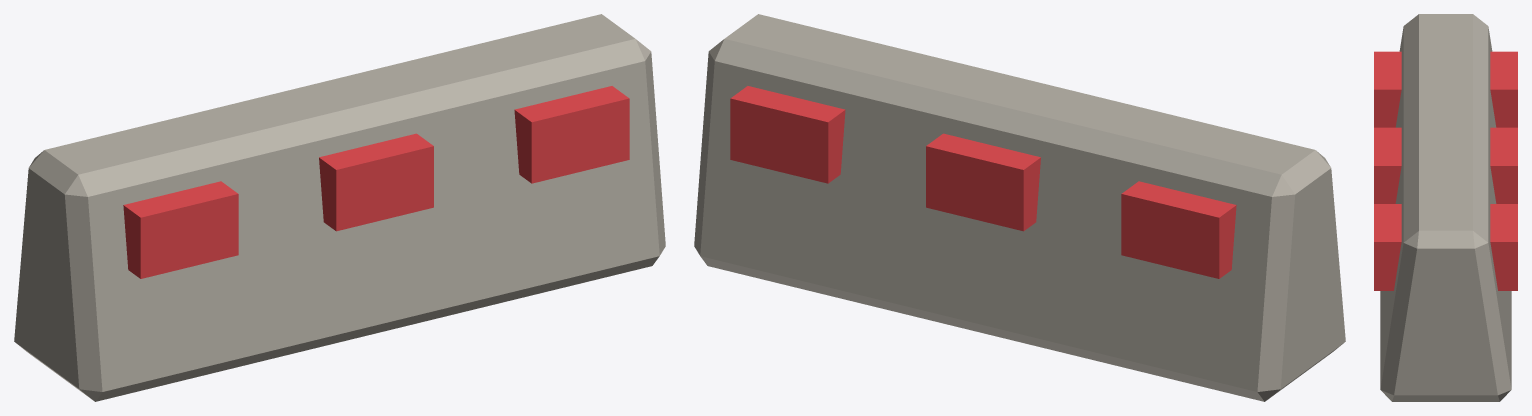
File: barrier.glb
3 views of the same model, side by side, from view 1: azimuth 30°, elevation 25°; view 2: azimuth 150°, elevation 25°; view 3: azimuth 270°, elevation 25° (orthographic). The views are drawn at different scales.
Parts seen in each view (by area): view 1: barrier; view 2: barrier; view 3: barrier.
Boxes of the visible parts, left/top/right/bottom form: barrier: left=14, top=14, right=665, bottom=401; barrier: left=694, top=14, right=1345, bottom=401; barrier: left=1374, top=14, right=1517, bottom=401.
Size of the model in its own units: 1.2 by 0.42 by 0.32.
Materials: 1 (1 with a texture image).
